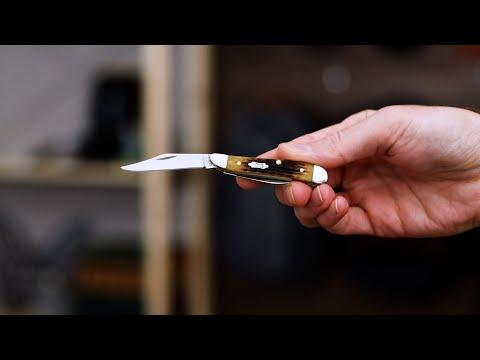Knife: (236, 103, 479, 236), (265, 104, 480, 238), (119, 152, 266, 173)
